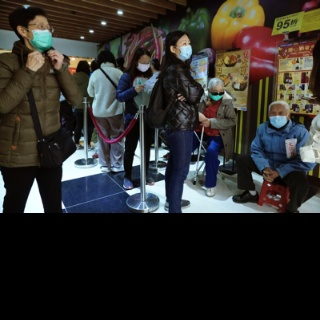with_mask: (26, 20, 52, 52), (269, 108, 288, 128), (176, 38, 192, 60), (136, 59, 151, 72), (210, 88, 225, 101)
